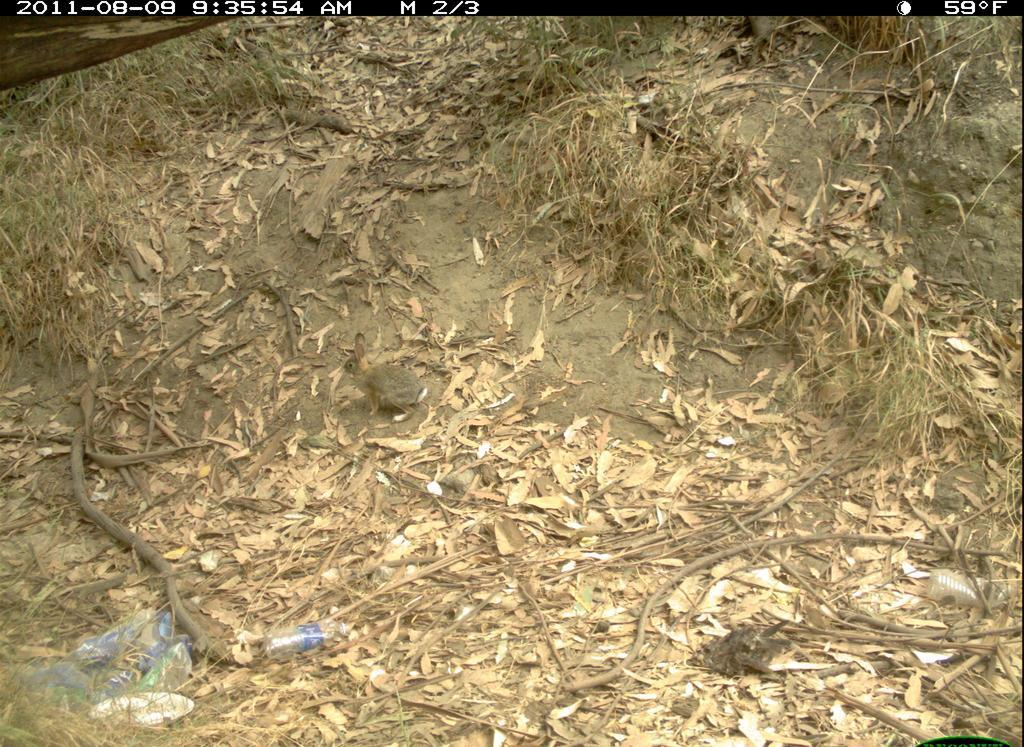rabbit: (340, 331, 434, 428)
